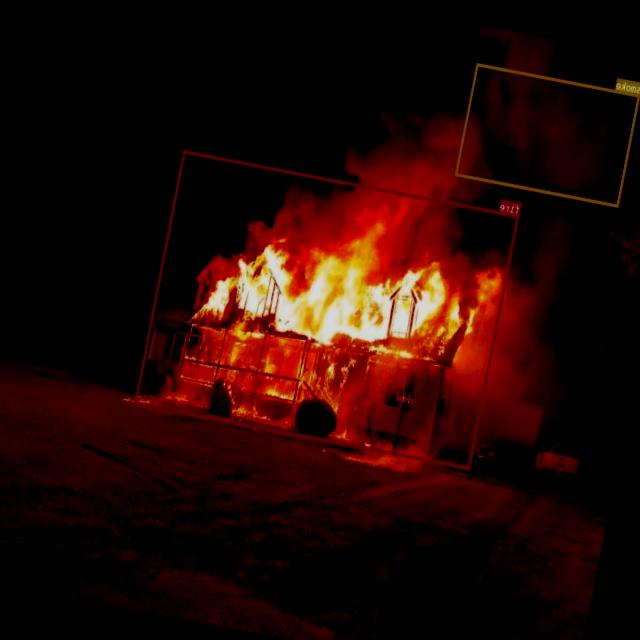fire: (135, 150, 520, 469)
smoke: (455, 62, 640, 207)
